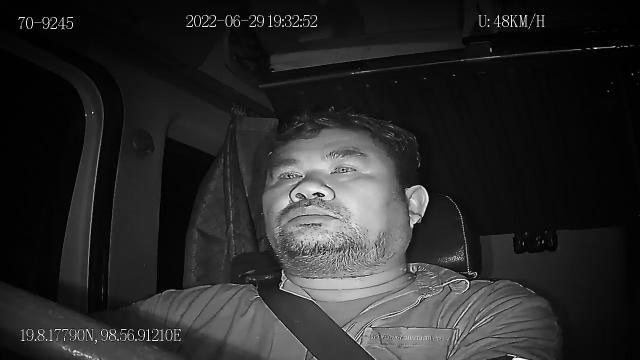SafeDriving: (264, 162, 304, 190), (326, 153, 367, 180)
Seatbelt: (254, 276, 378, 360)
